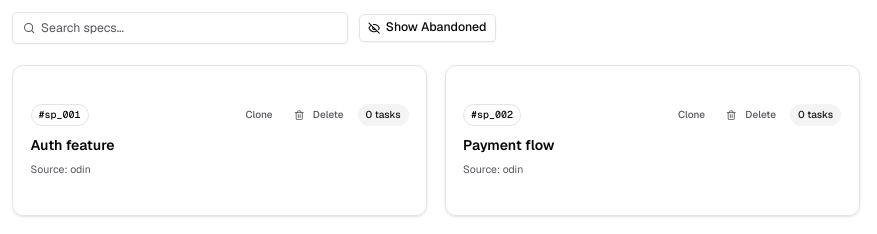
SpecListView › filters specs by search term
This screenshot has width=877, height=234.
Type "payment" into the field with placeholder "Search specs..." at (180, 28), box [12,12,348,44]
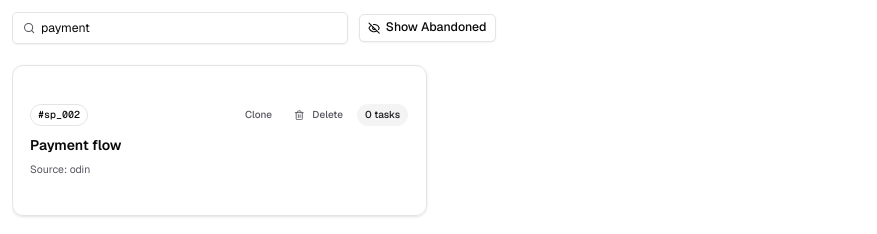
Check: the text "Payment flow" is shown, box [30,136,122,154]
Check: the text "Auth feature" is gone
